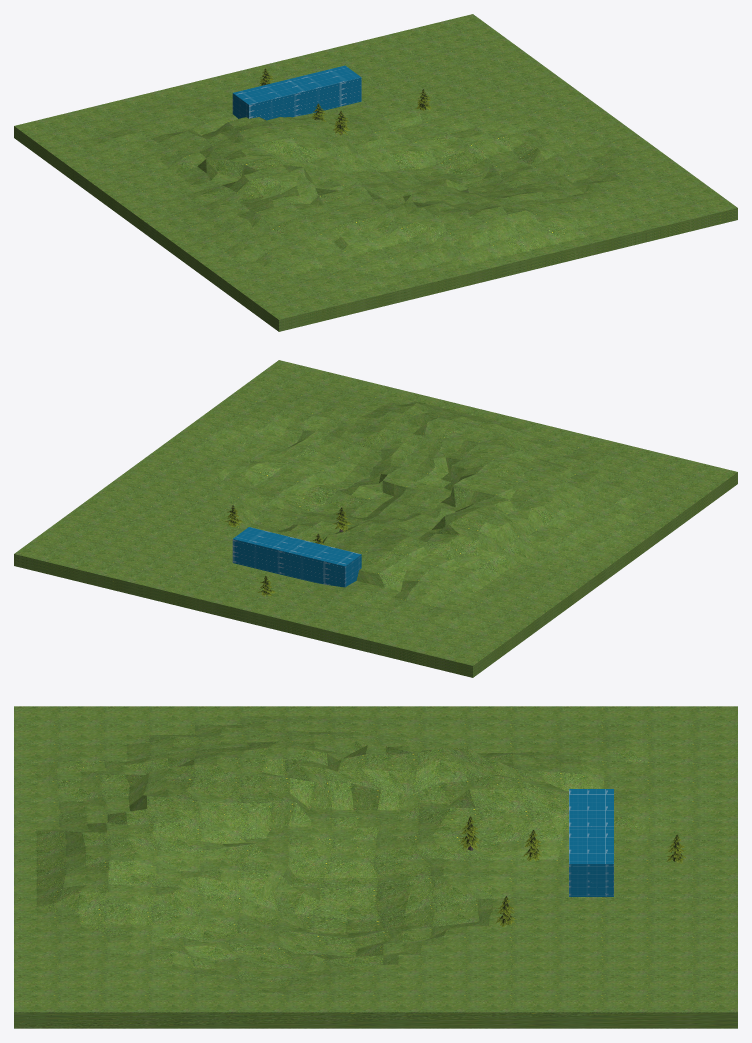
Rendered from ground.glb.
3 renders of one model, top to bottom at view 1: azimuth 30°, elevation 25°; view 2: azimuth 150°, elevation 25°; view 3: azimuth 270°, elevation 25°, orthographic. The views are drawn at different scales.
Parts seen in each view (by area): view 1: Куб, Куб.001; view 2: Куб, Куб.001; view 3: Куб, Куб.001.
Part boxes in pixels (left/top/right/bottom): Куб: left=14, top=14, right=737, bottom=331; Куб.001: left=232, top=65, right=361, bottom=120; Куб: left=14, top=360, right=737, bottom=677; Куб.001: left=232, top=527, right=361, bottom=587; Куб: left=14, top=706, right=737, bottom=1028; Куб.001: left=569, top=789, right=613, bottom=896.
Bounding box in the file's own units: 80 × 7.5 × 80.
3 materials, 3 textured.
